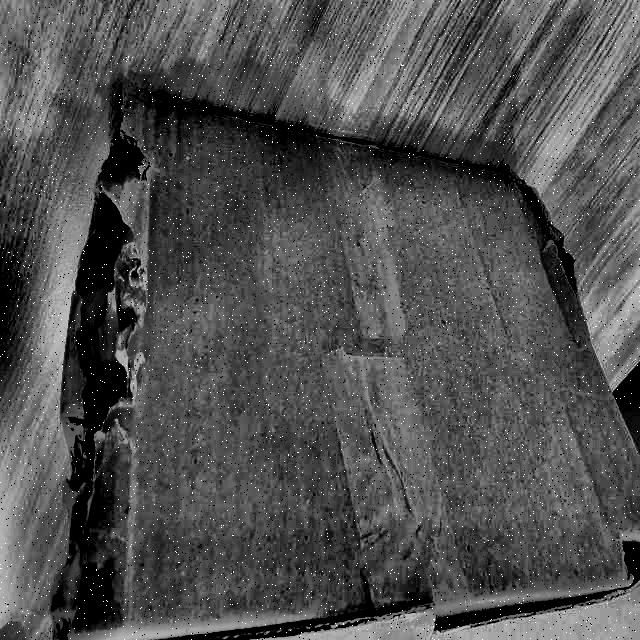box: (35, 72, 640, 640)
hole: (64, 126, 142, 504), (551, 228, 579, 296)
